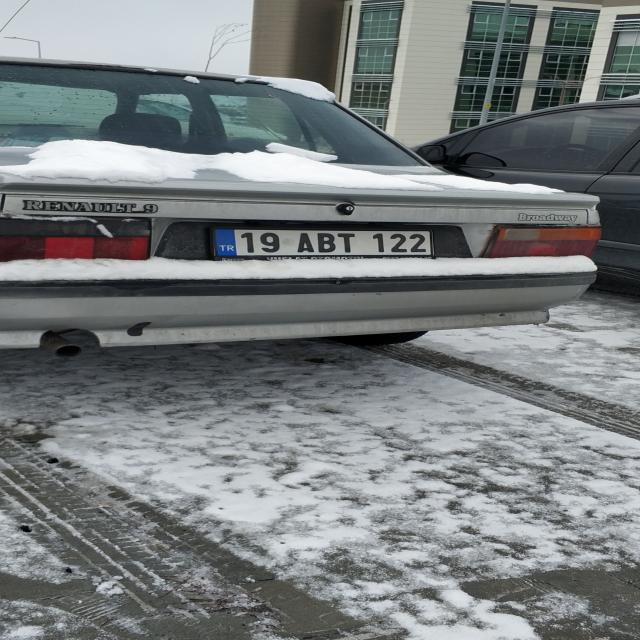plate: (211, 228, 432, 255)
